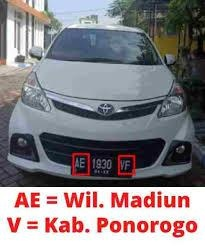plate: (72, 153, 133, 179)
